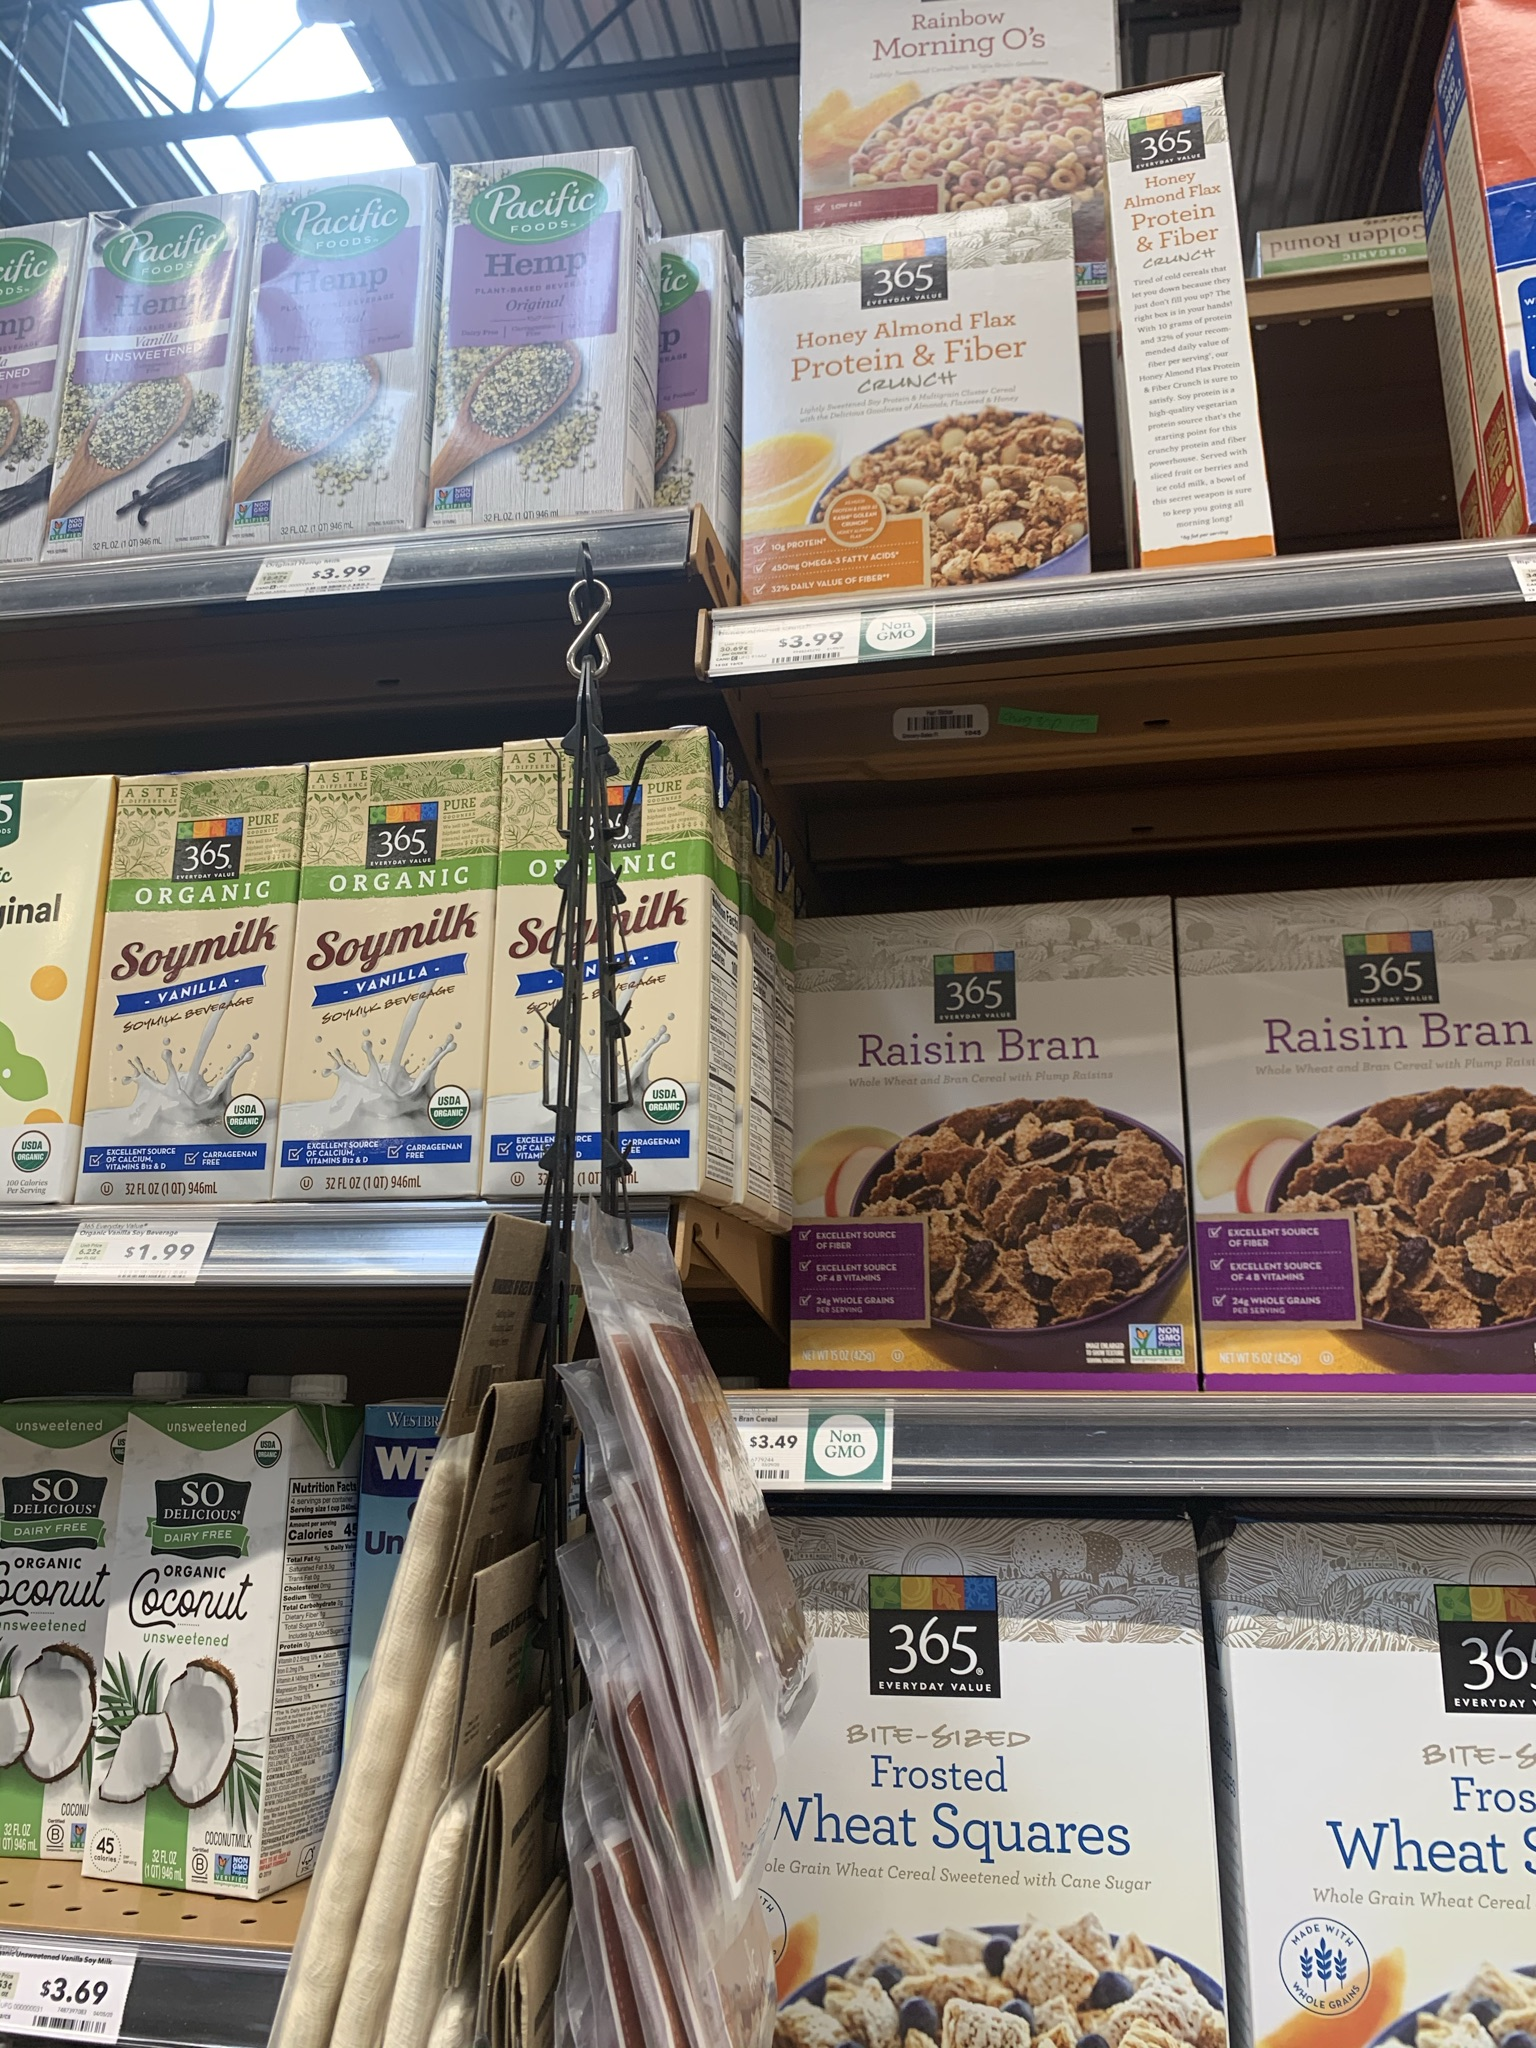cereal: (745, 1614, 1208, 2033), (783, 918, 1186, 1385), (1163, 892, 1536, 1393), (739, 185, 1083, 627), (1215, 1634, 1536, 2043)
